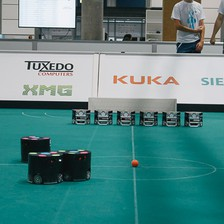ball: (130, 157, 140, 168)
goal: (86, 93, 179, 114)
robot: (25, 147, 64, 185), (61, 147, 94, 182), (18, 132, 51, 163), (160, 107, 183, 129), (92, 107, 114, 127), (69, 107, 91, 126), (114, 109, 137, 127), (137, 109, 159, 127), (182, 110, 204, 128)
